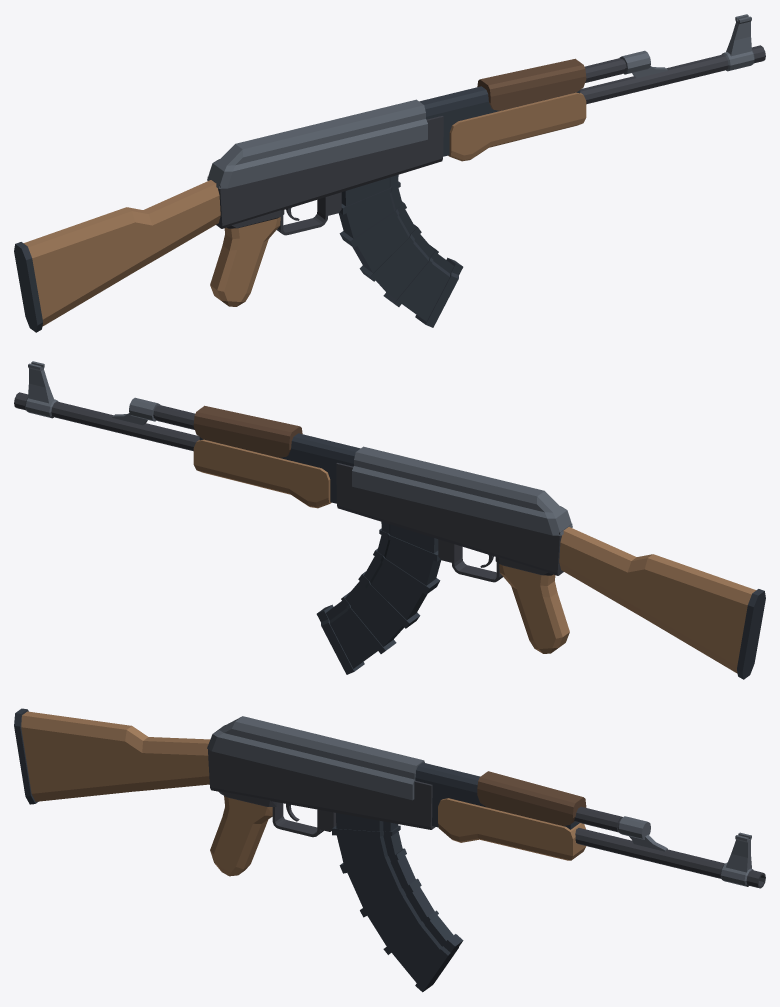
File: rifle.dae
3 renders of one model, top to bottom at view 1: azimuth 30°, elevation 25°; view 2: azimuth 150°, elevation 25°; view 3: azimuth 330°, elevation 25°, orthographic.
Parts seen in each view (by area): view 1: rifle; view 2: rifle; view 3: rifle.
Boxes of the visible parts, x1=… form: rifle: x1=14, y1=14, x2=765, y2=332; rifle: x1=14, y1=361, x2=765, y2=679; rifle: x1=14, y1=708, x2=765, y2=992.
Size of the model in its own units: 0.88 by 0.0318 by 0.2599.
